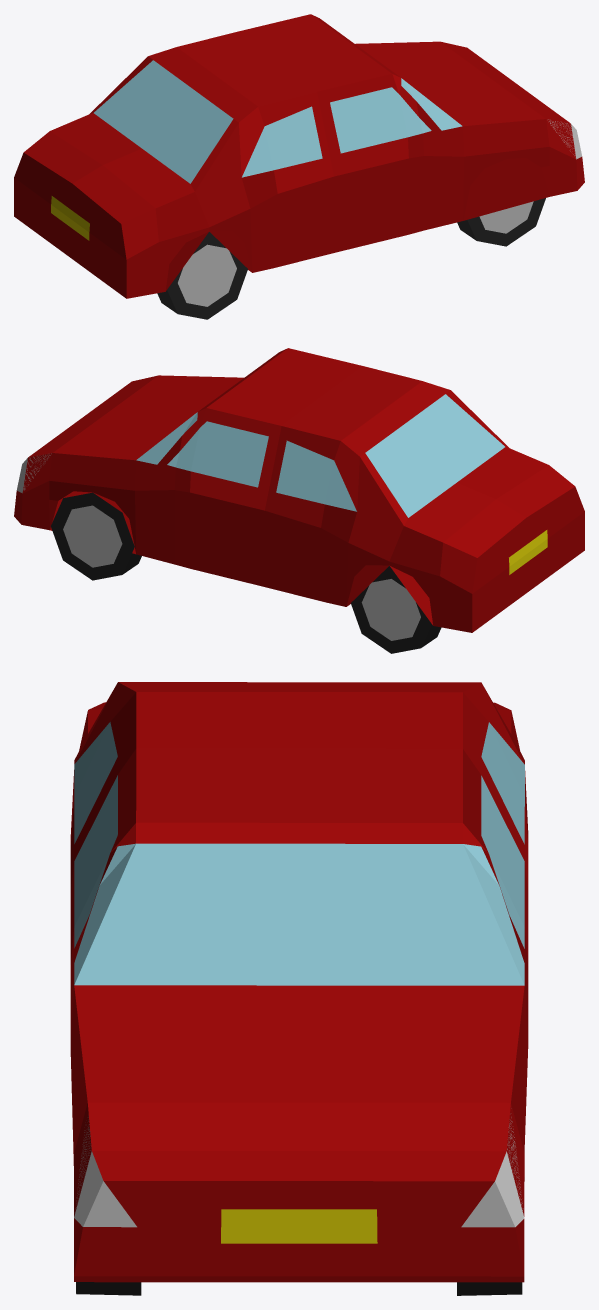
The model's file is car.fbx.
3 renders of one model, top to bottom at view 1: azimuth 30°, elevation 25°; view 2: azimuth 150°, elevation 25°; view 3: azimuth 270°, elevation 25°, orthographic. The views are drawn at different scales.
Visible parts, largest first — view 1: Car; view 2: Car; view 3: Car.
Boxes of the visible parts, left/top/right/bottom form: Car: left=14, top=14, right=584, bottom=319; Car: left=14, top=348, right=584, bottom=653; Car: left=70, top=682, right=528, bottom=1295.
Bounding box in the file's own units: 960 × 375 × 415.
